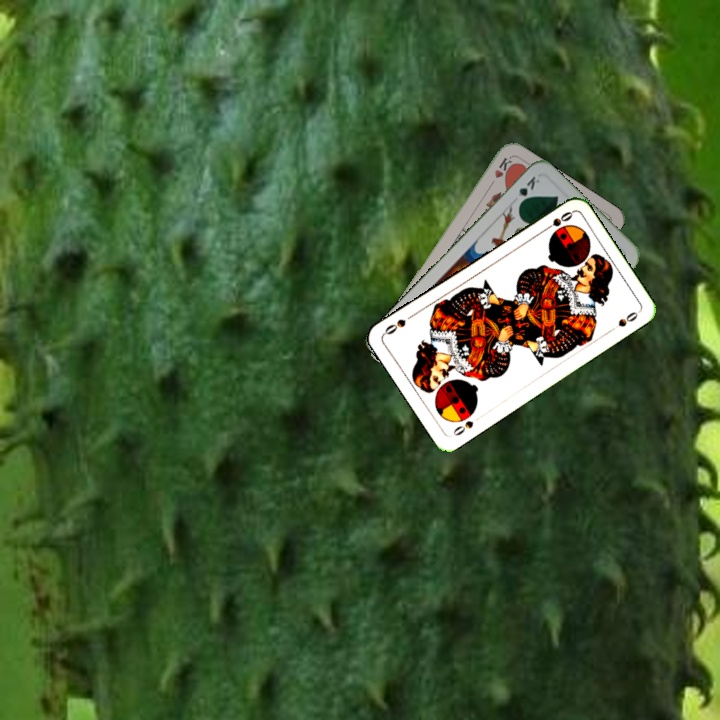GK: (509, 172, 543, 208)
HK: (485, 154, 515, 190)
SO: (539, 207, 575, 235), (449, 412, 484, 439)
